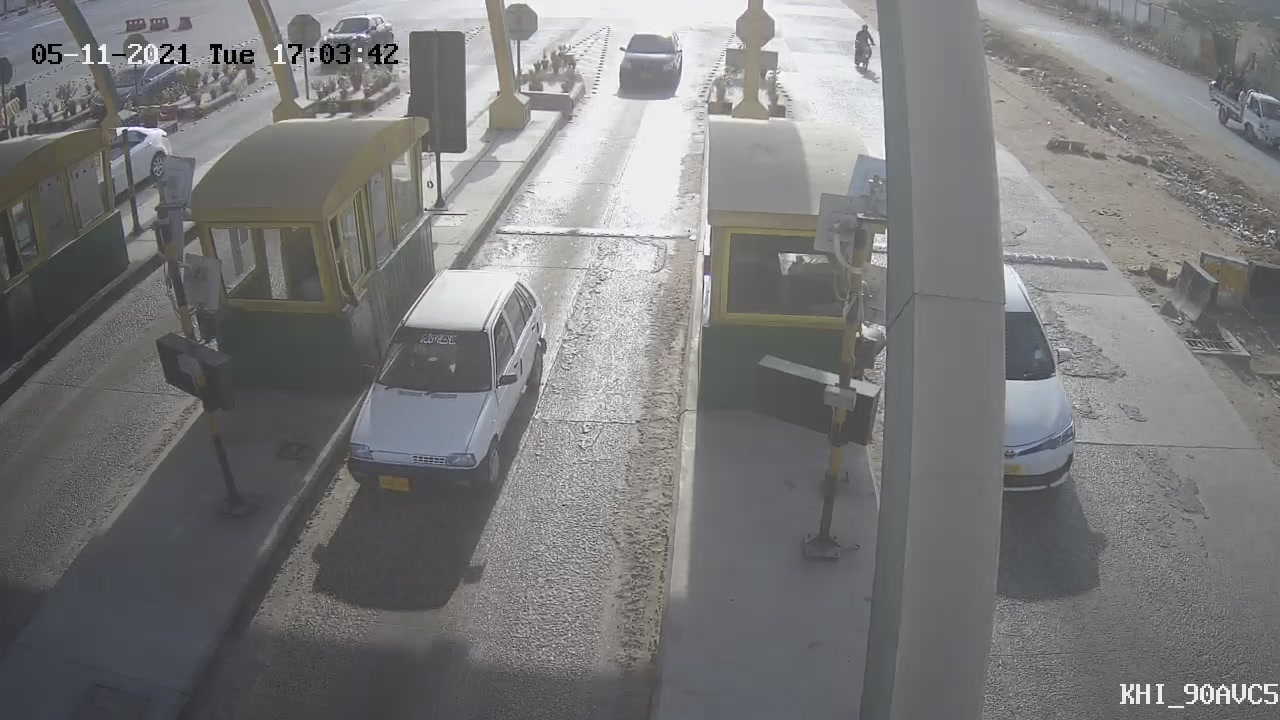F1: (316, 244, 577, 529)
